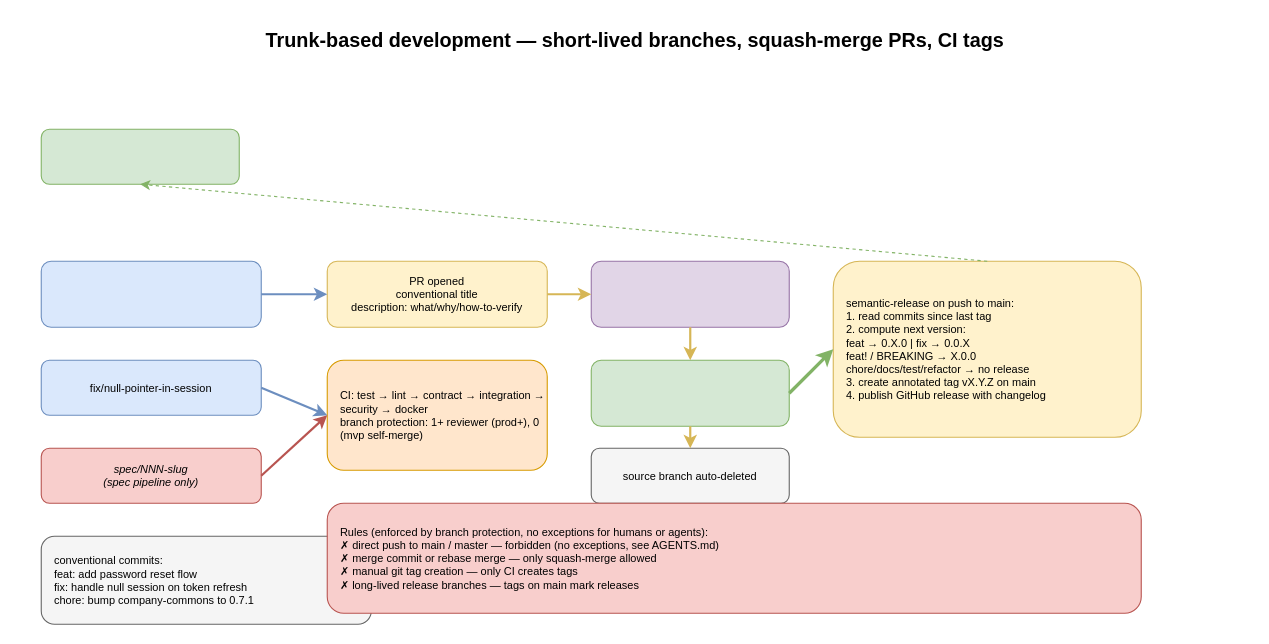
The diagram is 1269 pixels wide and 644 high, and some of its shapes have lost their labels. Here are the shapes that lost their labels. From the top down, the centre of each, then its label:
At pixel 139 156: "main (protected, no direct push)".
At pixel 150 293: "feature/user-password-recovery (short-lived, < 2 days)".
At pixel 689 293: "review (≥1 other for prod+)".
At pixel 689 392: "squash-merge to main (only merge strategy allowed)".
